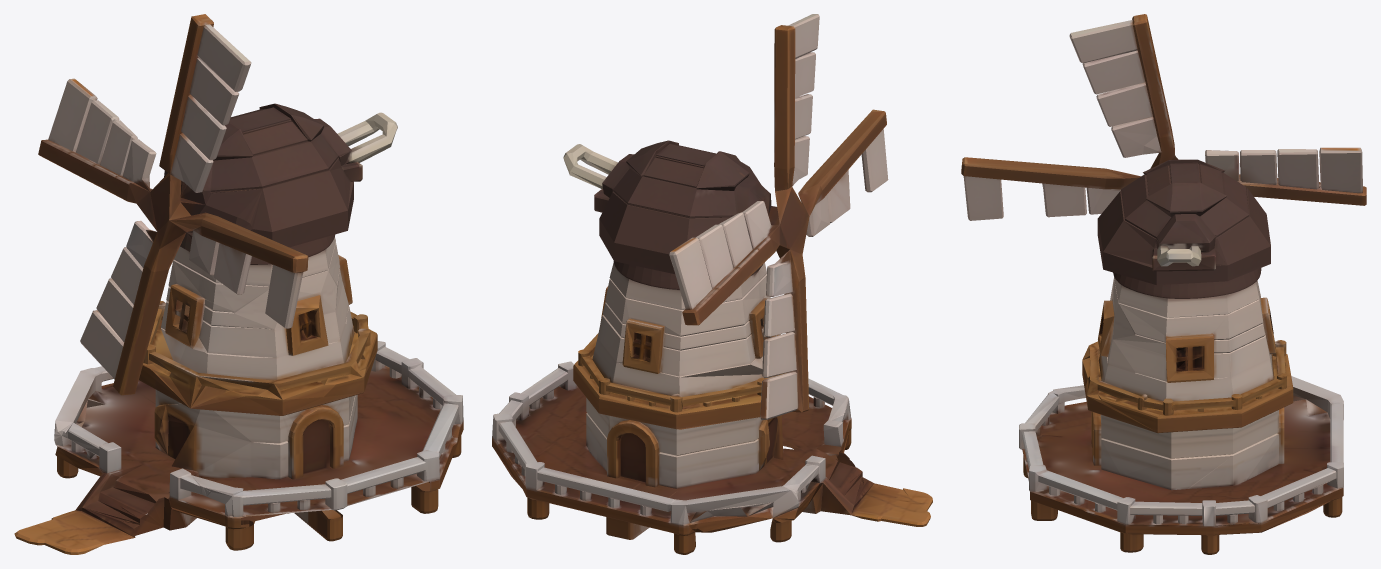
The model's file is wind_mill.fbx.
The picture shows the model from 3 angles, left to right: view 1: azimuth 30°, elevation 25°; view 2: azimuth 150°, elevation 25°; view 3: azimuth 270°, elevation 25°; orthographic projection. The views are drawn at different scales.
Visible parts, largest first — view 1: texture_pbr_v128; view 2: texture_pbr_v128; view 3: texture_pbr_v128.
Boxes of the visible parts, x1,y1,x2,y2 form: texture_pbr_v128: [14, 14, 463, 554]; texture_pbr_v128: [492, 14, 932, 554]; texture_pbr_v128: [961, 14, 1366, 554].
Size of the model in its own units: 173 by 190 by 162.
1 material, 1 textured.
